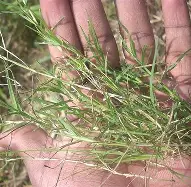weed: (0, 1, 190, 166)
